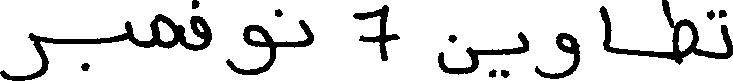X: (226, 20, 274, 79), (355, 0, 398, 65), (0, 28, 48, 80), (661, 0, 697, 69), (536, 28, 579, 80), (438, 30, 478, 79), (152, 9, 182, 53), (191, 0, 211, 55), (600, 1, 612, 57), (721, 5, 732, 63), (297, 15, 313, 51), (515, 27, 529, 58), (123, 16, 132, 47)
